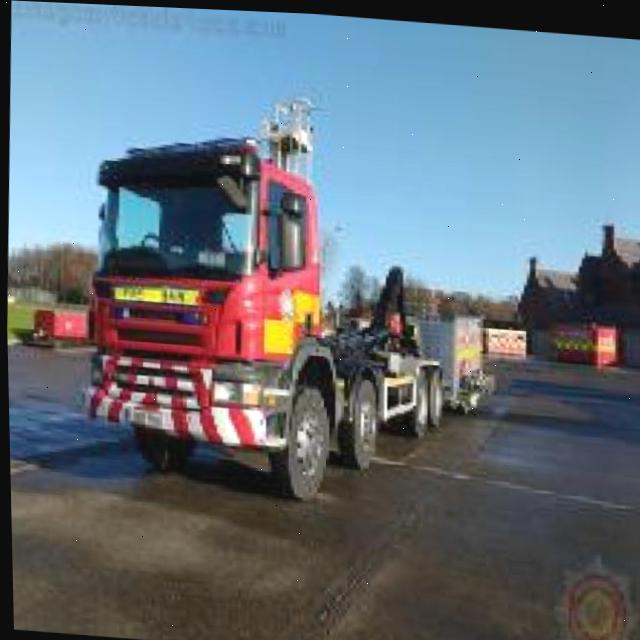emergency: (80, 116, 502, 492)
